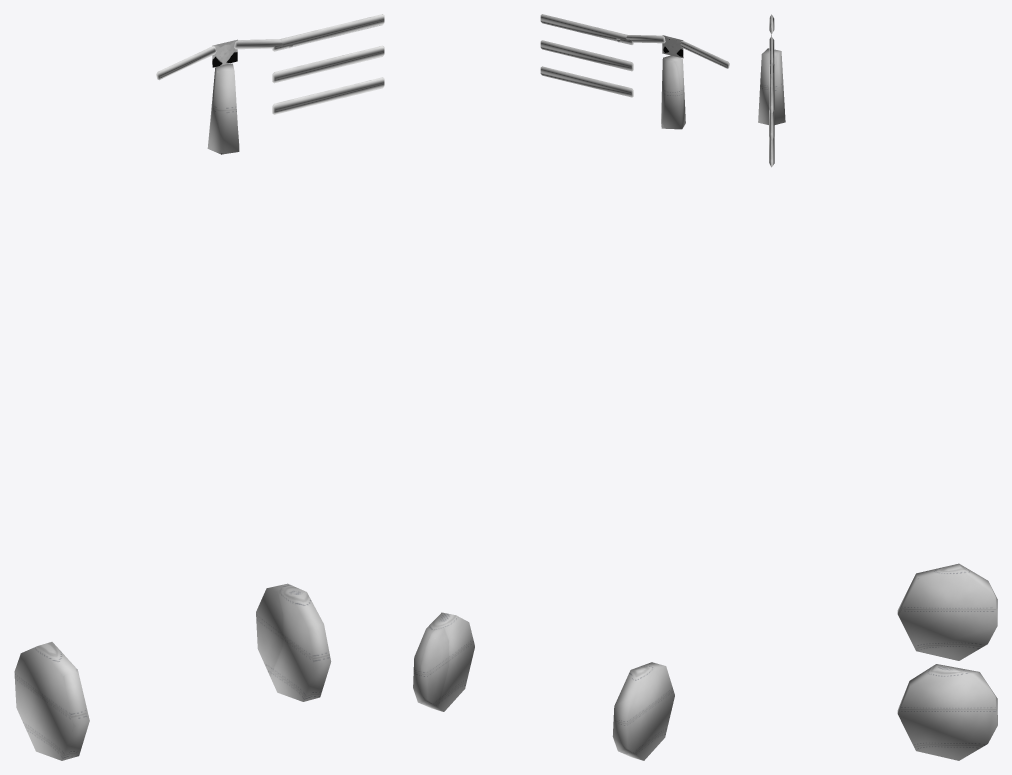
The model's file is CarritoDiarios_C2.fbx.
3 views of the same model, side by side, from view 1: azimuth 30°, elevation 25°; view 2: azimuth 150°, elevation 25°; view 3: azimuth 270°, elevation 25° (orthographic). The views are drawn at different scales.
Visible parts, largest first — view 1: Civ_CarritoDiarios_C2; view 2: Civ_CarritoDiarios_C2; view 3: Civ_CarritoDiarios_C2.
Boxes of the visible parts, x1,y1,x2,y2 form: Civ_CarritoDiarios_C2: (14, 14, 384, 760); Civ_CarritoDiarios_C2: (413, 14, 729, 760); Civ_CarritoDiarios_C2: (758, 14, 997, 760).
Size of the model in its own units: 2.14 by 6.12 by 2.03.
